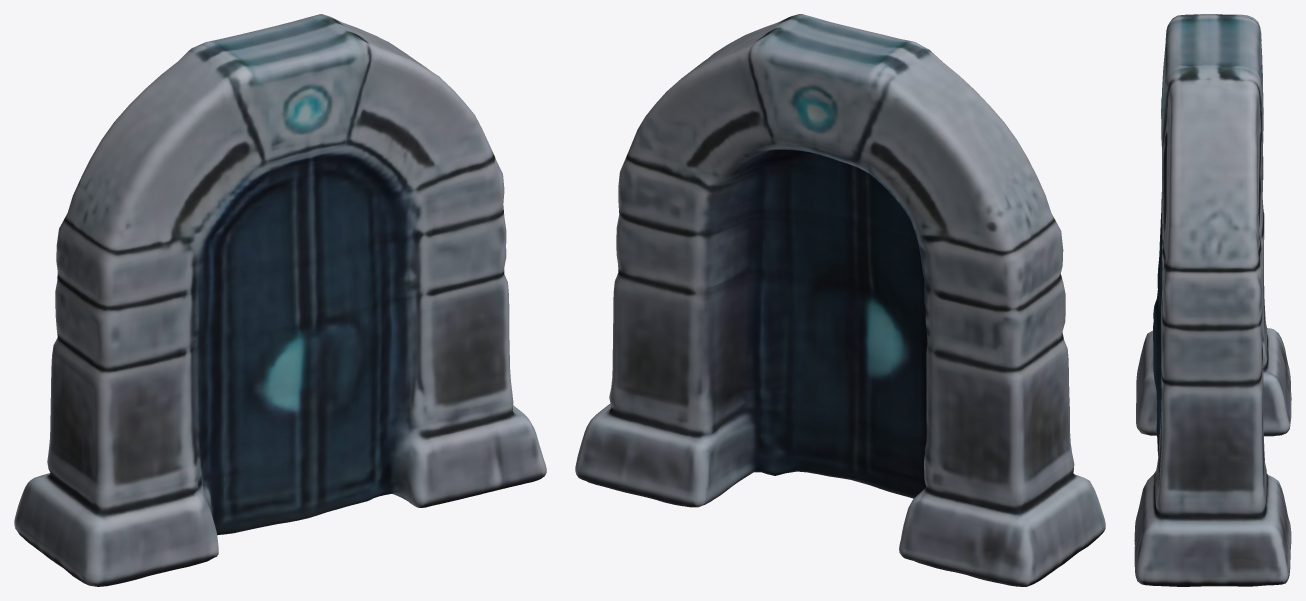
File: 8e8db920834b_crea_un_portal__3d_.fbx
The picture shows the model from 3 angles, left to right: view 1: azimuth 30°, elevation 25°; view 2: azimuth 150°, elevation 25°; view 3: azimuth 270°, elevation 25°; orthographic projection. The views are drawn at different scales.
Visible parts, largest first — view 1: mesh; view 2: mesh; view 3: mesh.
Boxes of the visible parts, x1=… form: mesh: x1=14, y1=14, x2=546, y2=586; mesh: x1=575, y1=14, x2=1105, y2=586; mesh: x1=1134, y1=14, x2=1291, y2=586.
Bounding box in the file's own units: 99.97 × 97.23 × 31.27.
